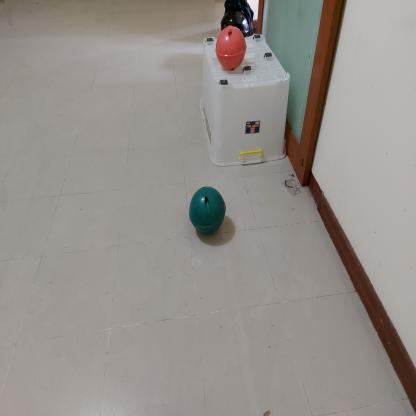green_buoy: (188, 184, 227, 237)
red_buoy: (214, 24, 248, 72)
